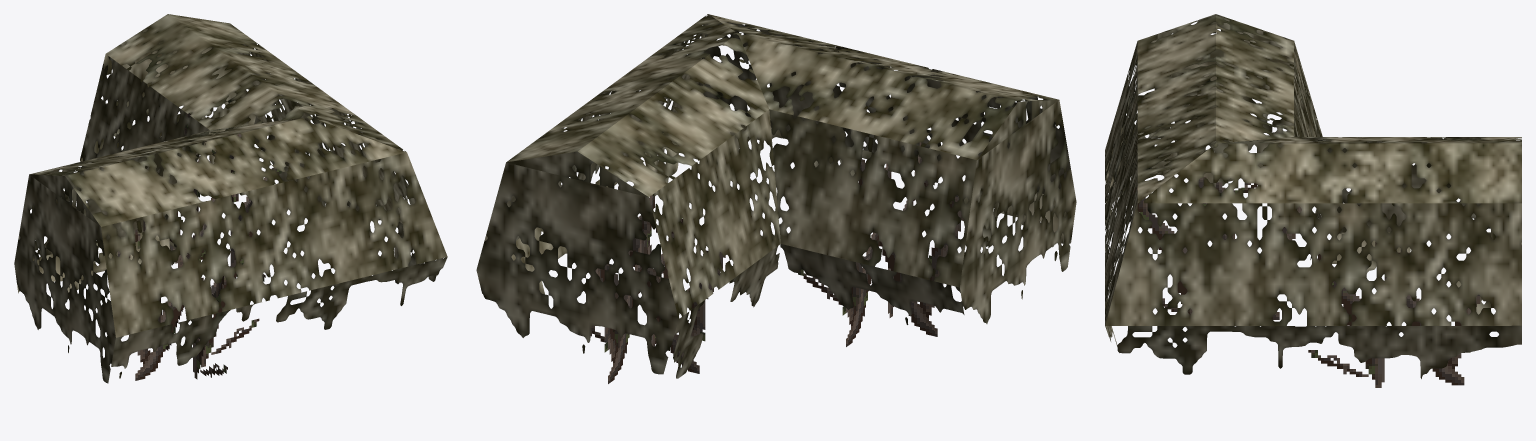
Rendered from bush_square_corner_roots_dead.fbx.
3 renders of one model, left to right at view 1: azimuth 30°, elevation 25°; view 2: azimuth 150°, elevation 25°; view 3: azimuth 270°, elevation 25°, orthographic. The views are drawn at different scales.
Visible parts, largest first — view 1: bush_square_corner_roots_dead; view 2: bush_square_corner_roots_dead; view 3: bush_square_corner_roots_dead.
Part boxes in pixels (bbox=[...]): bush_square_corner_roots_dead: bbox=[14, 14, 447, 383]; bush_square_corner_roots_dead: bbox=[476, 14, 1076, 383]; bush_square_corner_roots_dead: bbox=[1105, 14, 1521, 387].
Bounding box in the file's own units: 136 × 87.65 × 135.
Materials: 2 (2 with a texture image).
